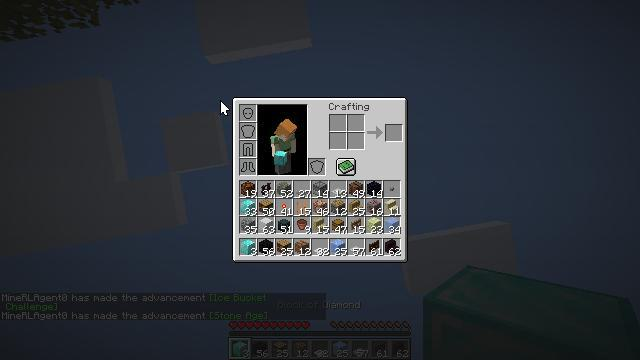cursor: (220, 100, 230, 116)
